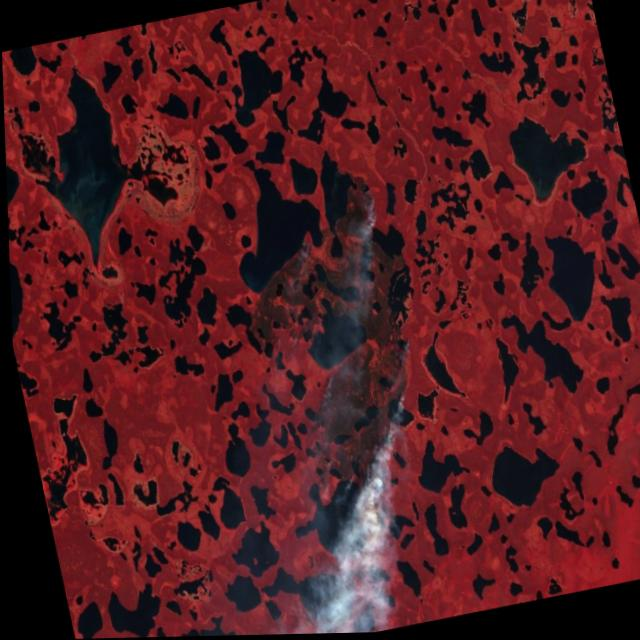fire: (213, 157, 474, 596)
